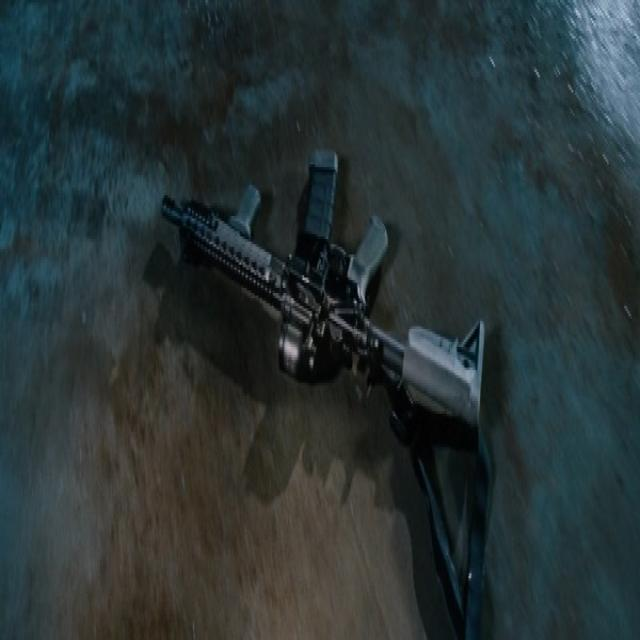rifle: (155, 148, 494, 470)
